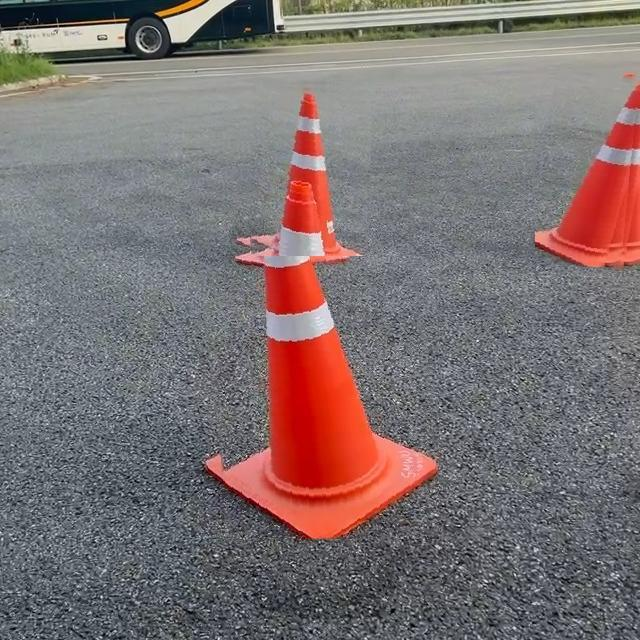fallen_object: (209, 180, 459, 552), (236, 77, 368, 291), (540, 60, 640, 250)
